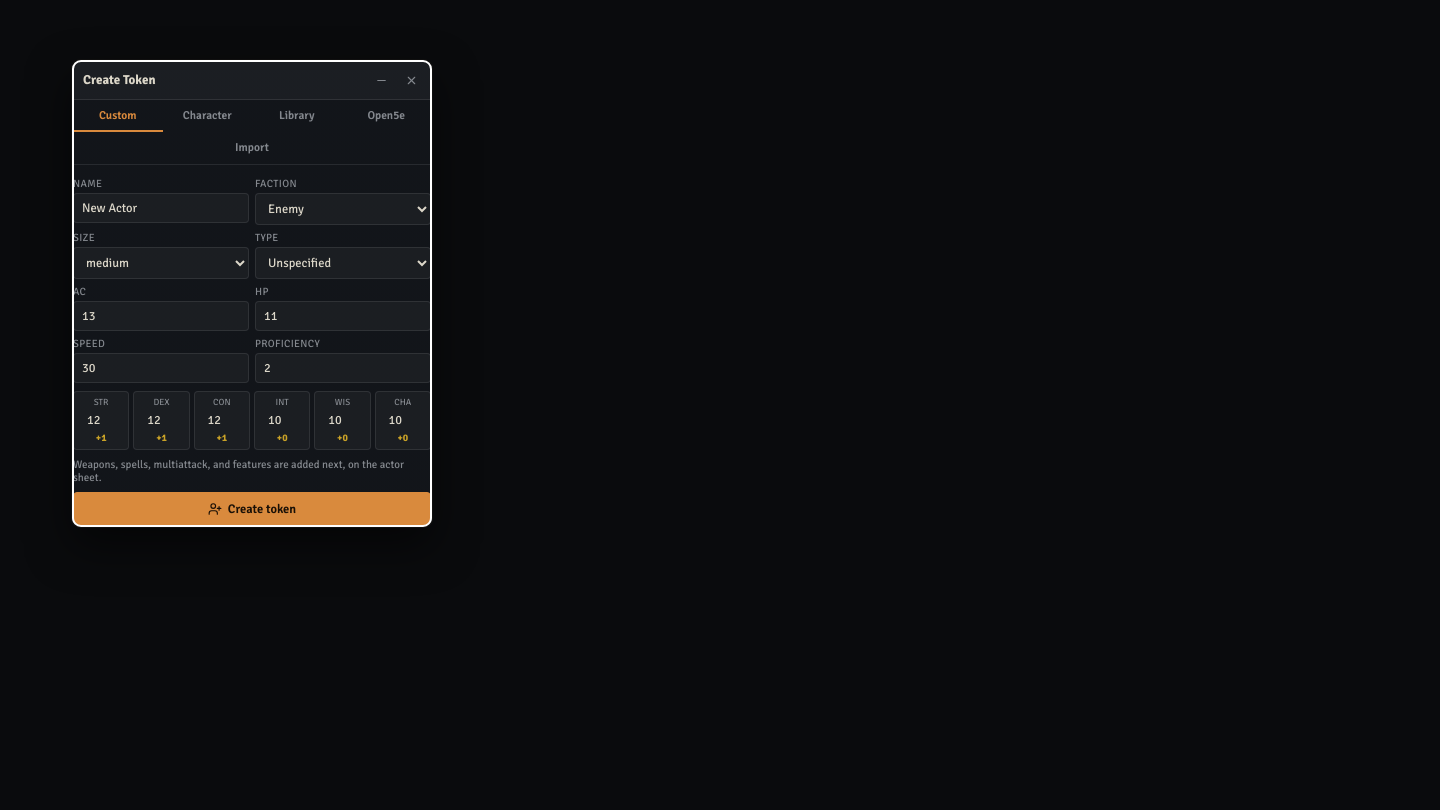
Scenario: Create Token — creature type › fills in humanoid for a party member, and clears it again for an enemy
Check: the dropdown labelled "Type" shows "Unspecified", box [255,247,431,279]
Select "Party" in the dropdown labelled "Faction". click: {"x": 343, "y": 209}
box: [255,193,431,225]
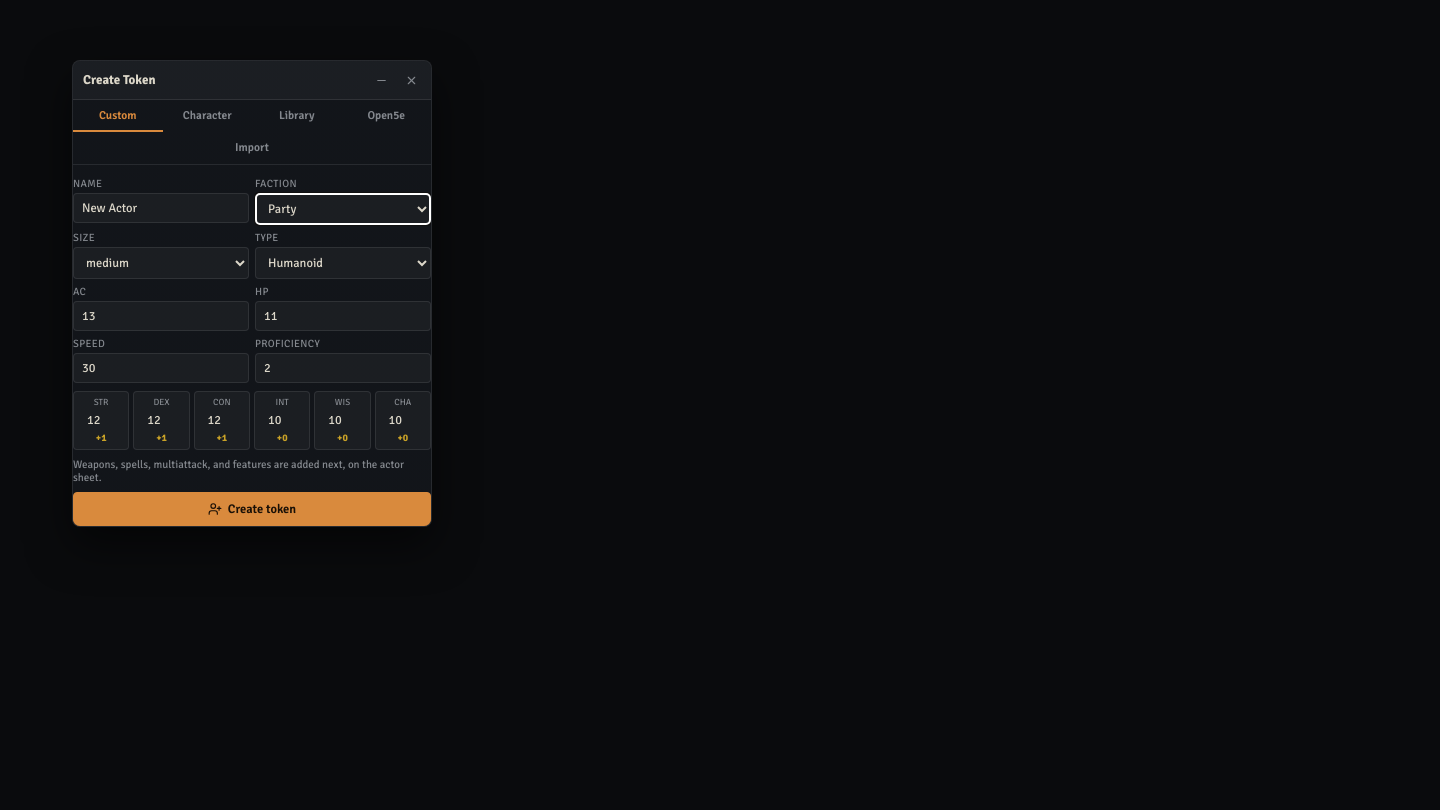
Check: the dropdown labelled "Type" shows "Humanoid", box [255,247,431,279]
Select "Enemy" in the dropdown labelled "Faction". click: {"x": 343, "y": 209}
box: [255,193,431,225]
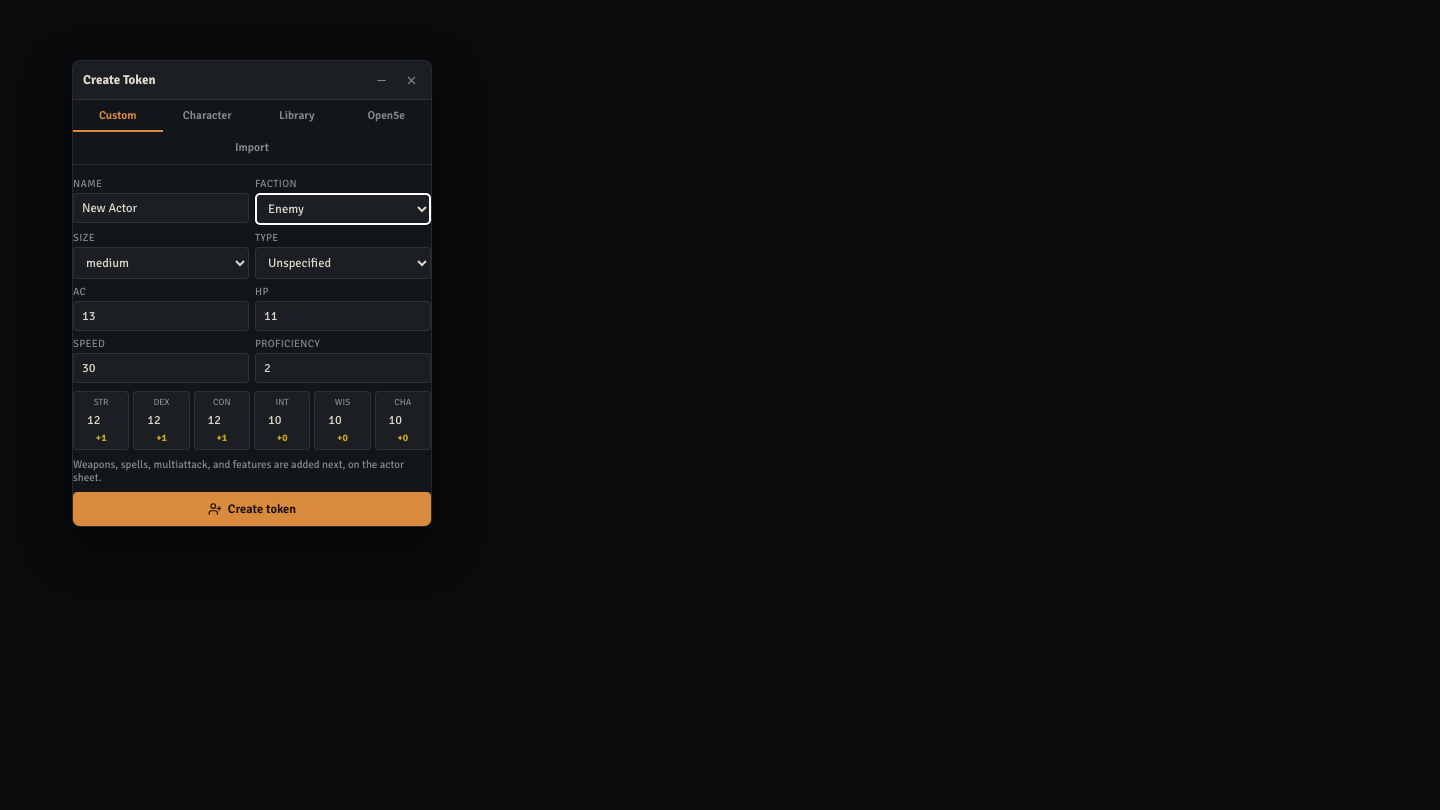
Check: the dropdown labelled "Type" shows "Unspecified", box [255,247,431,279]
